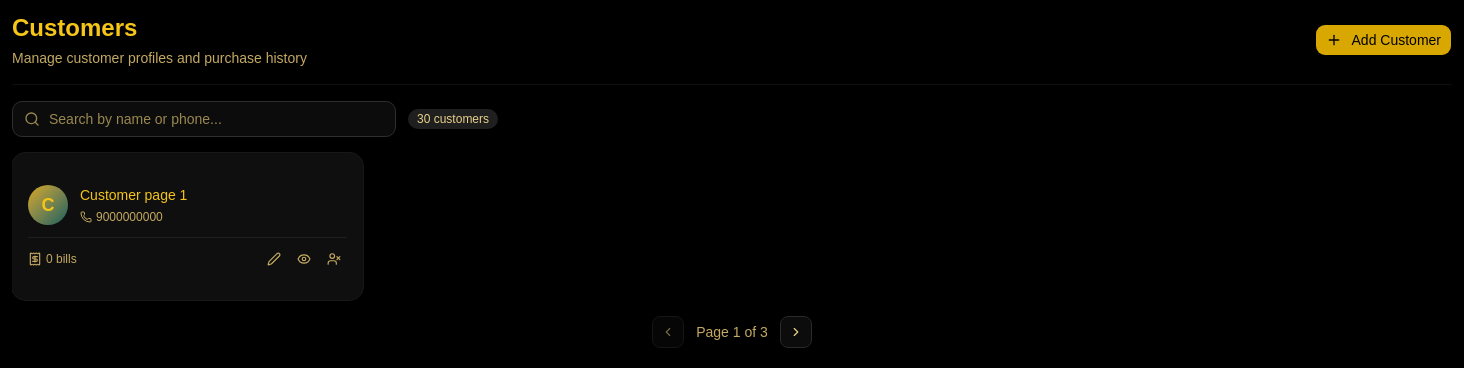
Customers — paging › asks for the next page when the pager advances
The width and height of the screenshot is (1464, 368).
Expected: the text "Customer page 1" is shown, [80,187,187,203]
What coordinates should you click on to do the following:
click the 6th button
I would click on:
 (796, 332)
Its box is [780,316,812,348].
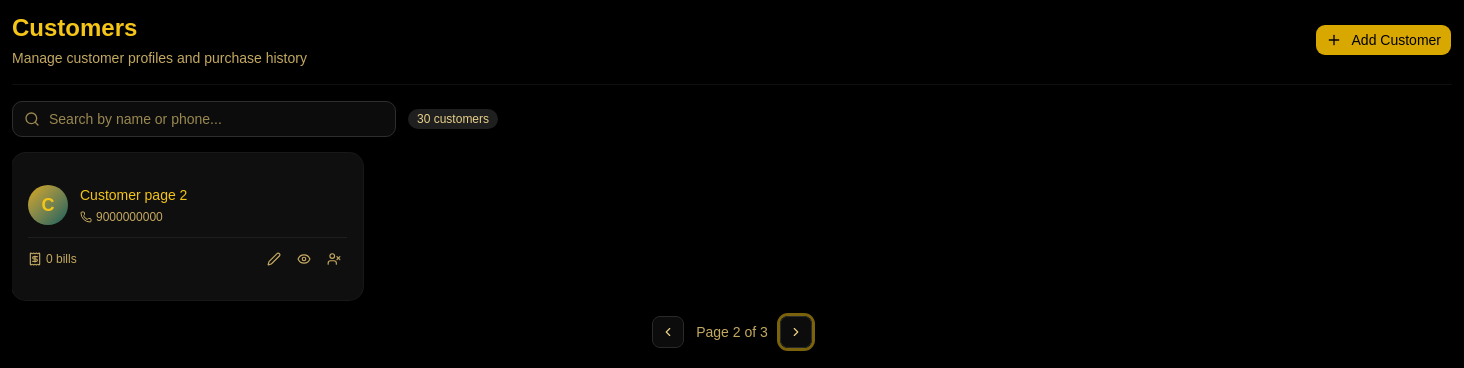
Result: the text "Customer page 2" is shown at [80,187,187,203]
